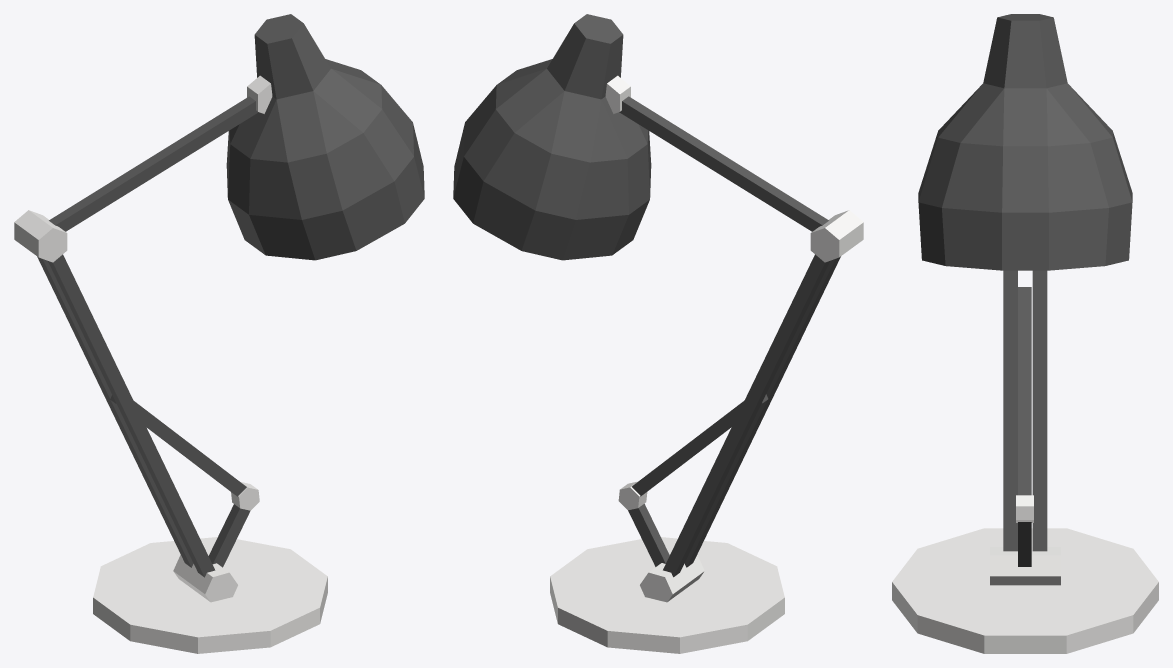
File: Tablelamp_231109.glb
The picture shows the model from 3 angles, left to right: view 1: azimuth 30°, elevation 25°; view 2: azimuth 150°, elevation 25°; view 3: azimuth 270°, elevation 25°; orthographic projection. The views are drawn at different scales.
Parts seen in each view (by area): view 1: Tablelamp; view 2: Tablelamp; view 3: Tablelamp.
Boxes of the visible parts, x1=… form: Tablelamp: x1=14, y1=14, x2=424, y2=653; Tablelamp: x1=453, y1=14, x2=863, y2=653; Tablelamp: x1=892, y1=14, x2=1158, y2=653.
Size of the model in its own units: 0.7148 by 0.9959 by 0.3843.
Materials: 1 (1 with a texture image).
